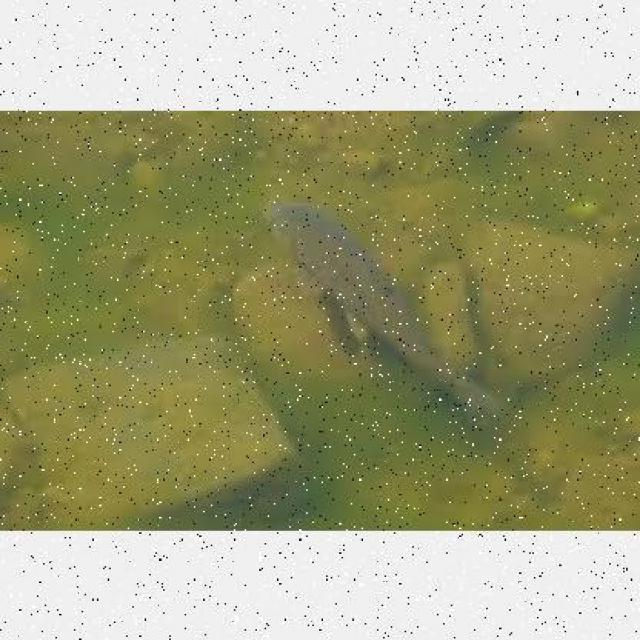ikan-mas: (257, 184, 508, 418)
